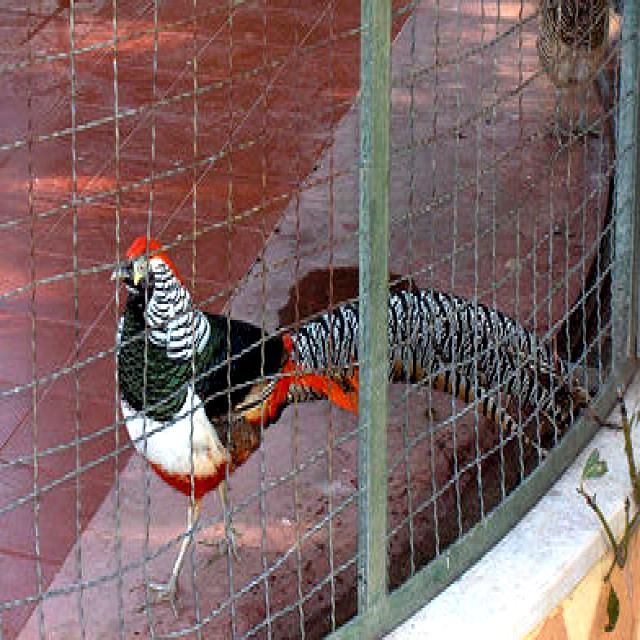Chrysolophus amherstiae: (389, 283, 588, 443), (286, 301, 358, 400)
